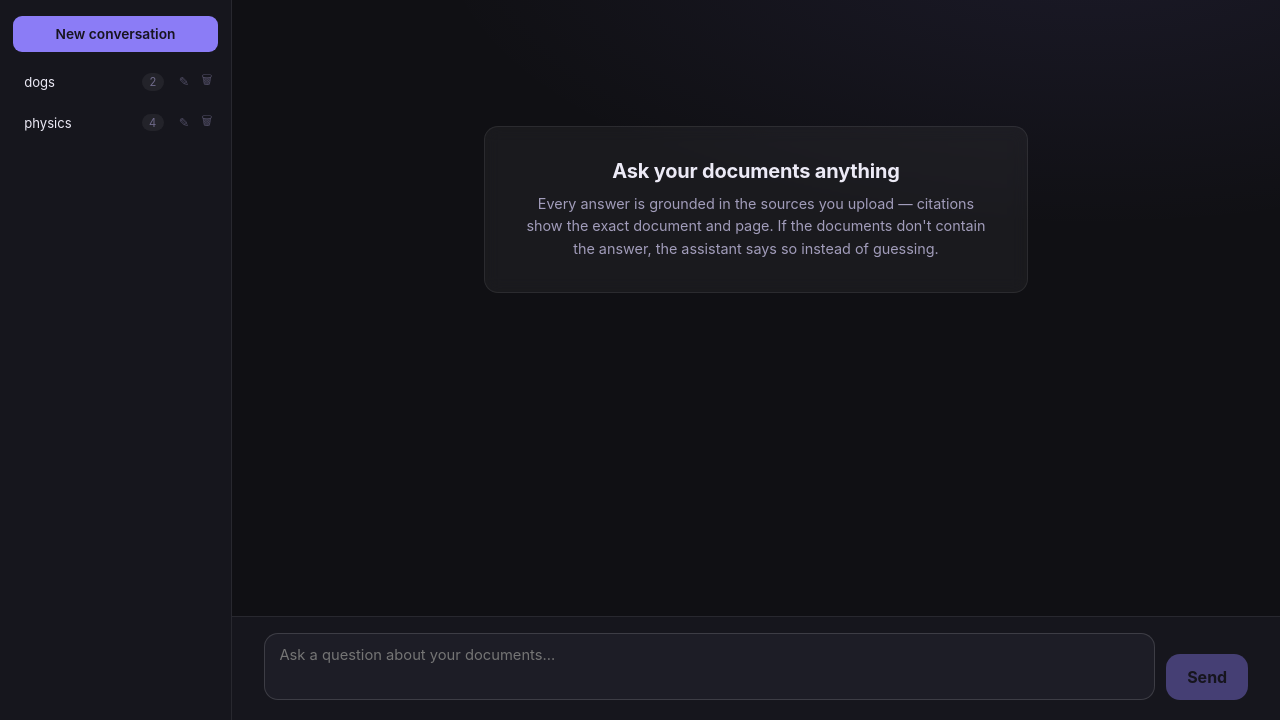
it: delete › closes the confirmation dialog on cancel
Expected: the element with test id "conversation-item" showing "physics 4 ✎ 🗑" is shown, [13,105,218,140]
Step 1. Click the button named "Delete physics" → (207, 123), box [196,107,217,139]
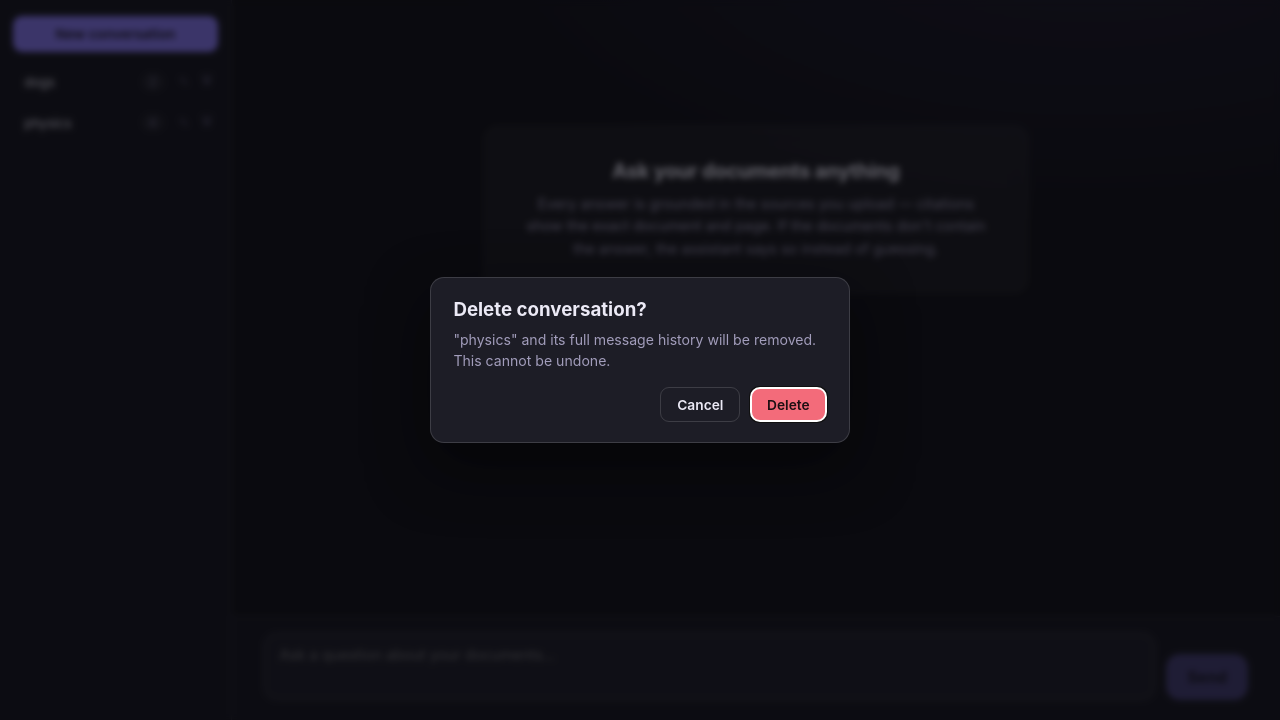
Step 2. Click the button "Cancel" → (700, 405), box [660,387,740,422]
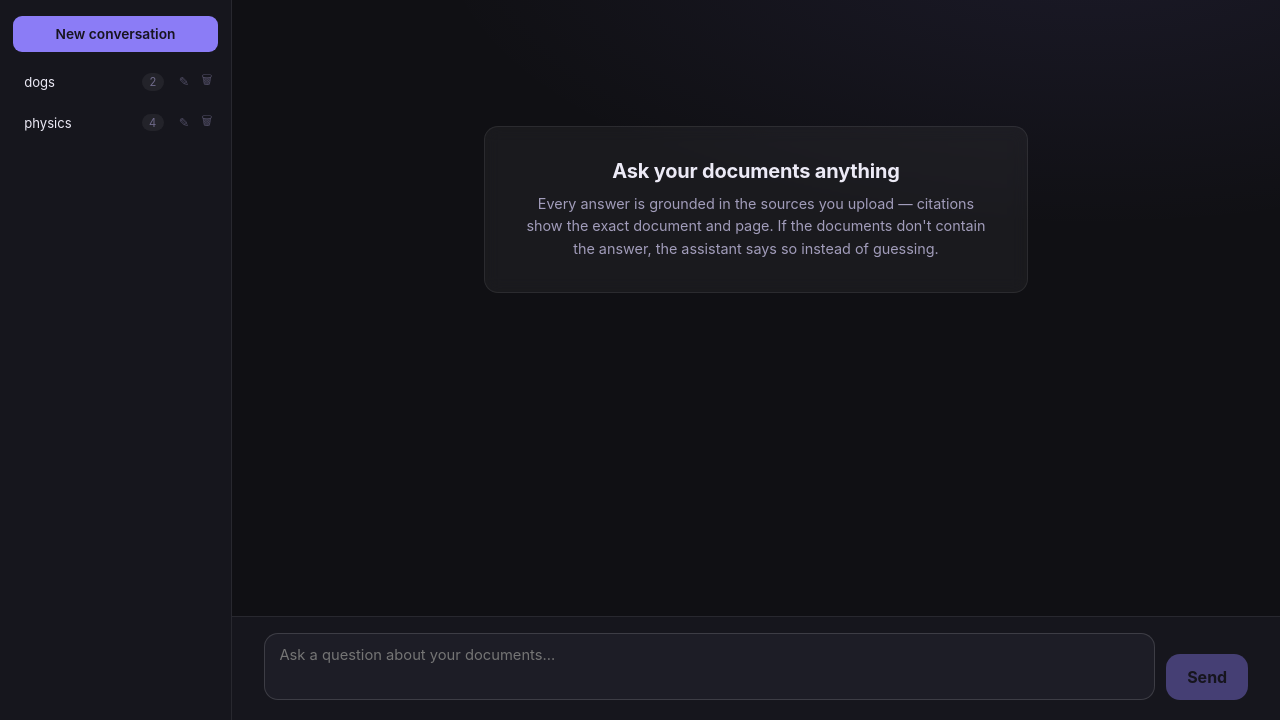
Expected: the dialog with test id "conversation-delete-confirm" is gone
